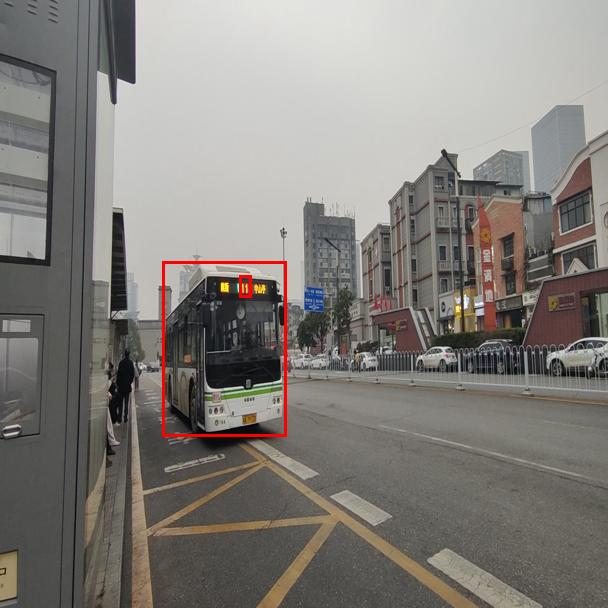bus: (162, 261, 286, 436)
screen: (239, 275, 251, 297)
